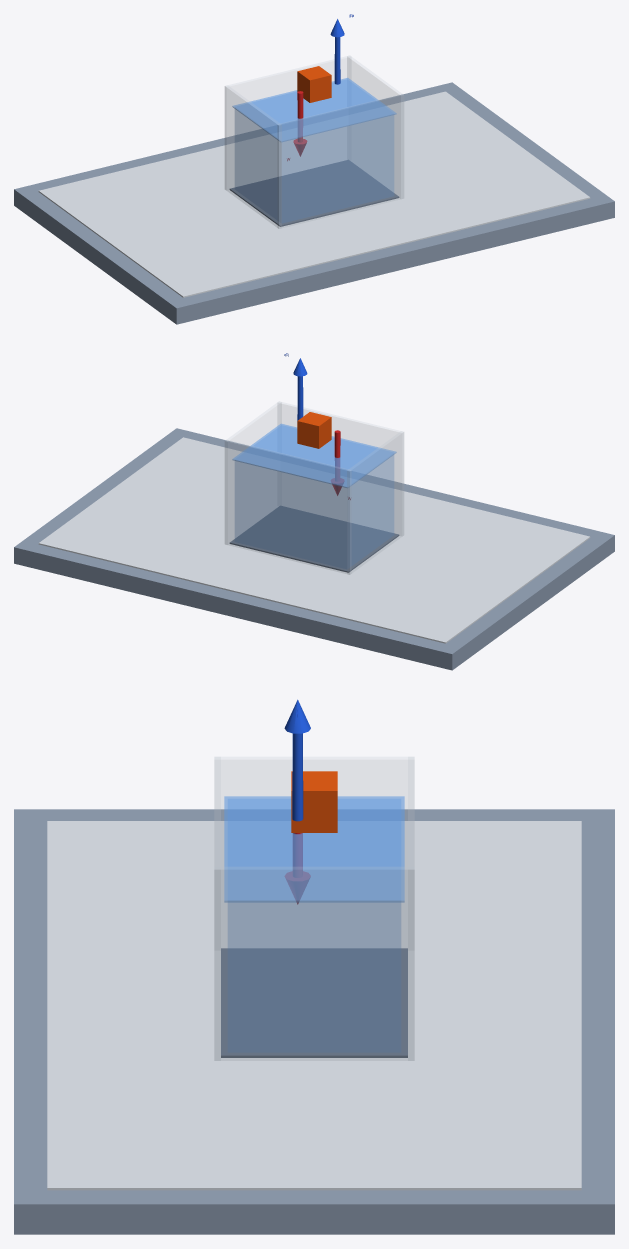
File: archimedes-buoyancy.glb
3 renders of one model, top to bottom at view 1: azimuth 30°, elevation 25°; view 2: azimuth 150°, elevation 25°; view 3: azimuth 270°, elevation 25°, orthographic. The views are drawn at different scales.
Parts seen in each view (by area): view 1: Base, Tank, Liquid, TestObject, BuoyantForceArrow, WeightForceArrow; view 2: Base, Tank, Liquid, TestObject, BuoyantForceArrow, WeightForceArrow; view 3: Base, Tank, Liquid, TestObject, BuoyantForceArrow, WeightForceArrow.
Boxes of the visible parts, bbox=[...] form: Base: bbox=[14, 82, 614, 324]; Tank: bbox=[225, 55, 403, 228]; Liquid: bbox=[235, 80, 393, 222]; TestObject: bbox=[297, 66, 331, 102]; BuoyantForceArrow: bbox=[330, 19, 344, 84]; WeightForceArrow: bbox=[293, 91, 307, 156]; Base: bbox=[14, 428, 614, 670]; Tank: bbox=[225, 401, 403, 574]; Liquid: bbox=[235, 426, 393, 568]; TestObject: bbox=[297, 412, 331, 448]; BuoyantForceArrow: bbox=[293, 358, 307, 420]; WeightForceArrow: bbox=[331, 430, 343, 495]; Base: bbox=[14, 809, 614, 1234]; Tank: bbox=[214, 757, 414, 1060]; Liquid: bbox=[228, 799, 400, 1052]; TestObject: bbox=[291, 771, 337, 832]; BuoyantForceArrow: bbox=[284, 699, 310, 821]; WeightForceArrow: bbox=[285, 833, 310, 904].
Bounding box in the file's own units: 0.308 × 0.1295 × 0.198.
